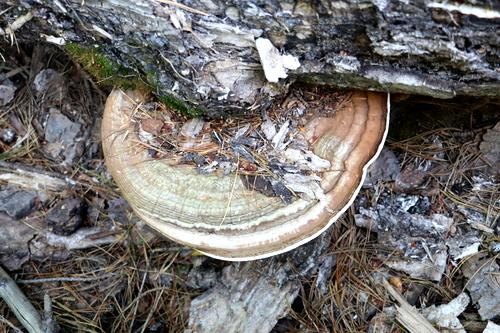Ganoderma - Fruit Body: (103, 67, 392, 263)
